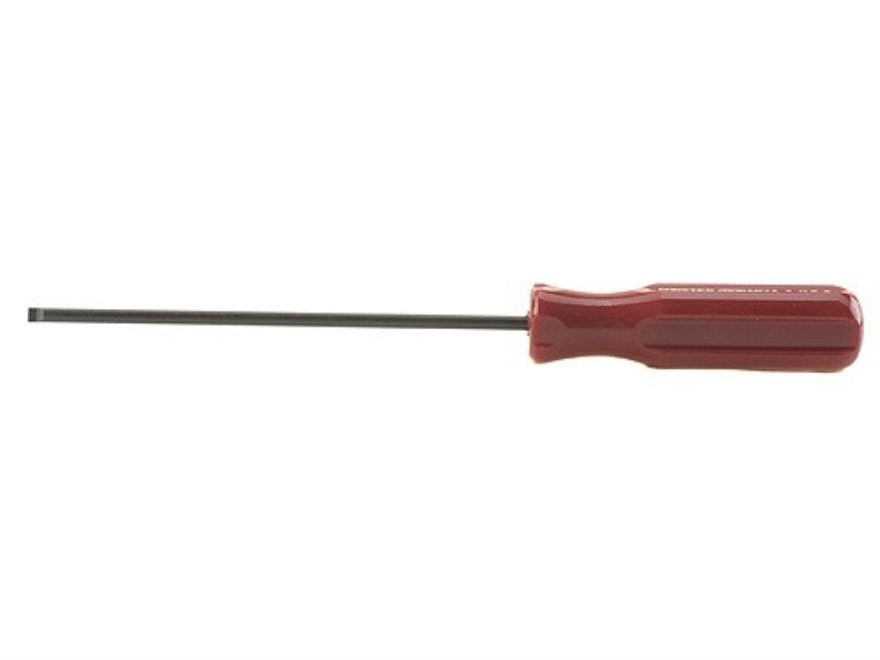screwdriver: (21, 263, 870, 387)
